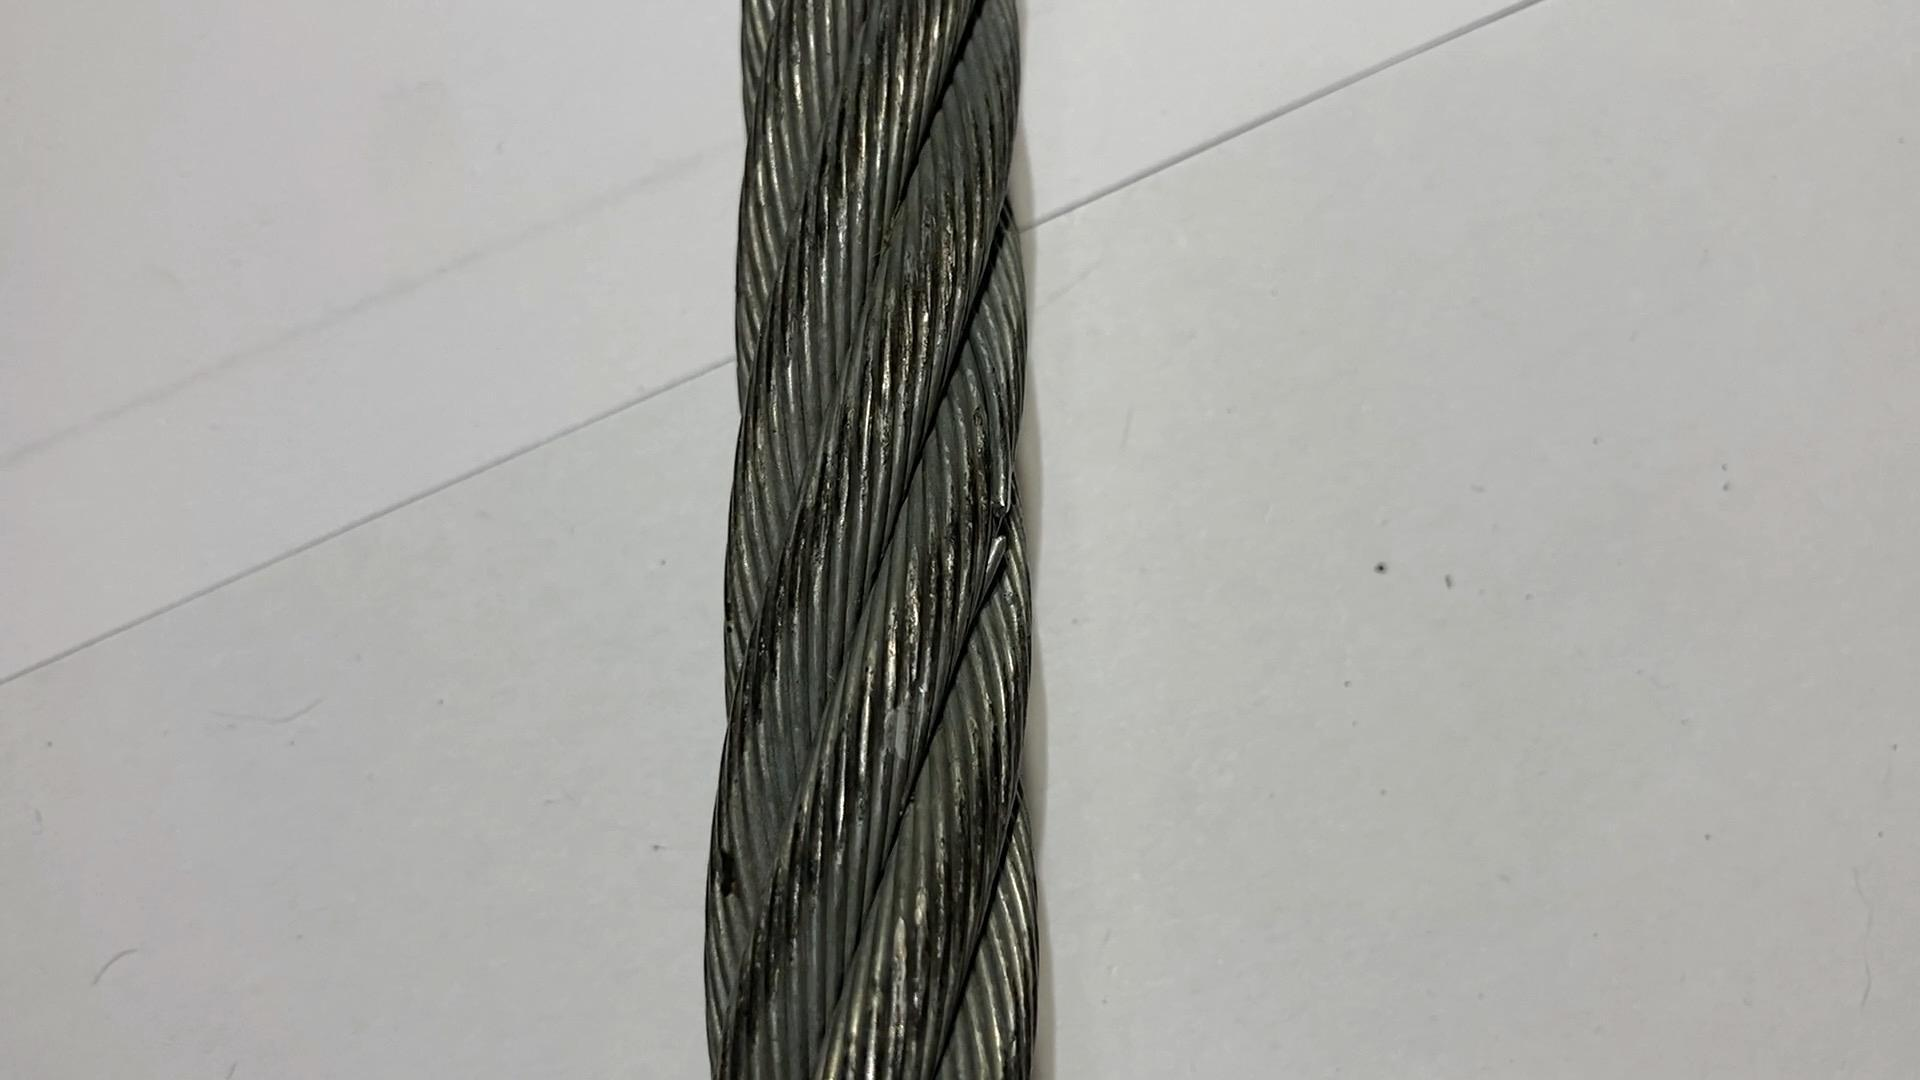break: (981, 483, 1027, 559)
